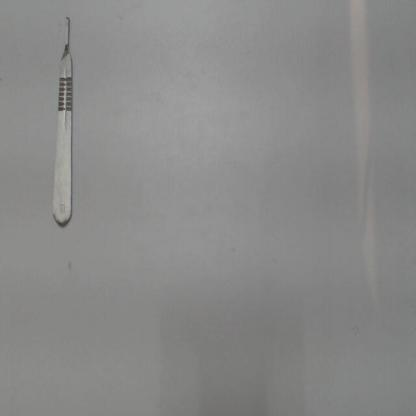No.3 BP Handle: (46, 9, 80, 239)
